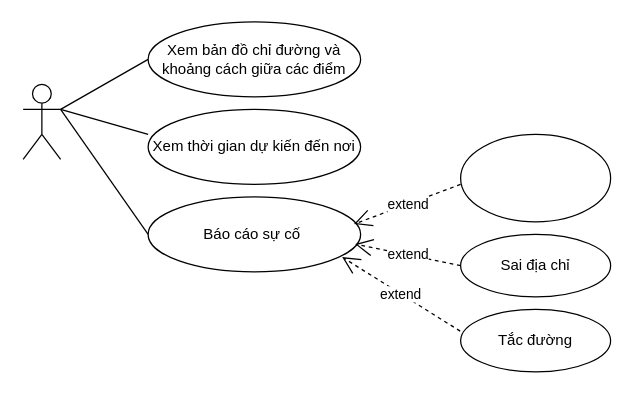
Some shapes in this 633 by 394 pixel diagram are drawn without their labels. Each missing label, with the centre of its shape:
Không liên lạc được với khách hàng: [535,177]
Tài xế: [41,121]
